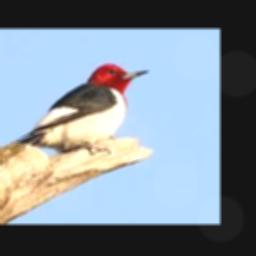Woodpecker: (16, 63, 148, 149)
